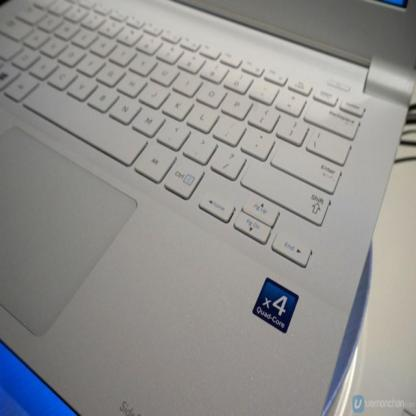board: (2, 0, 415, 410)
